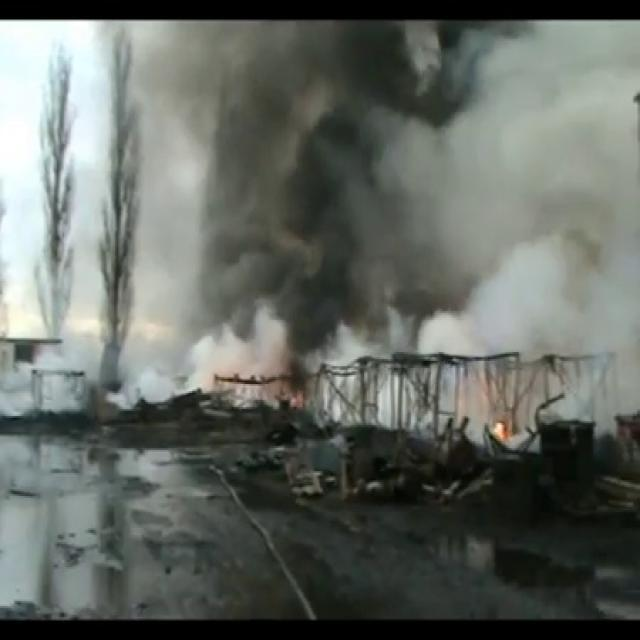Smoke: (75, 20, 640, 360)
